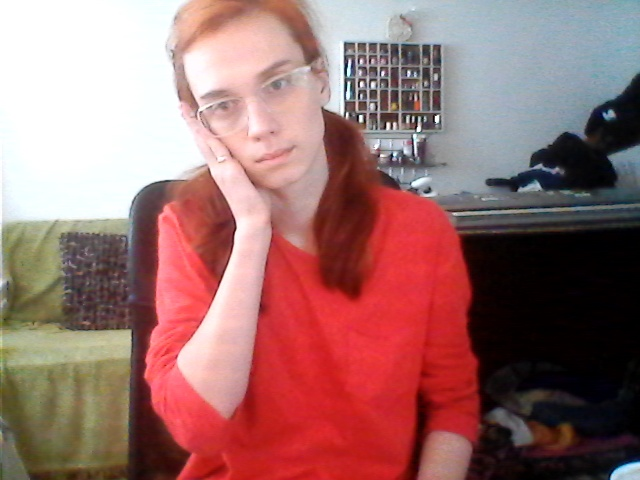lezat: (167, 102, 277, 228)
